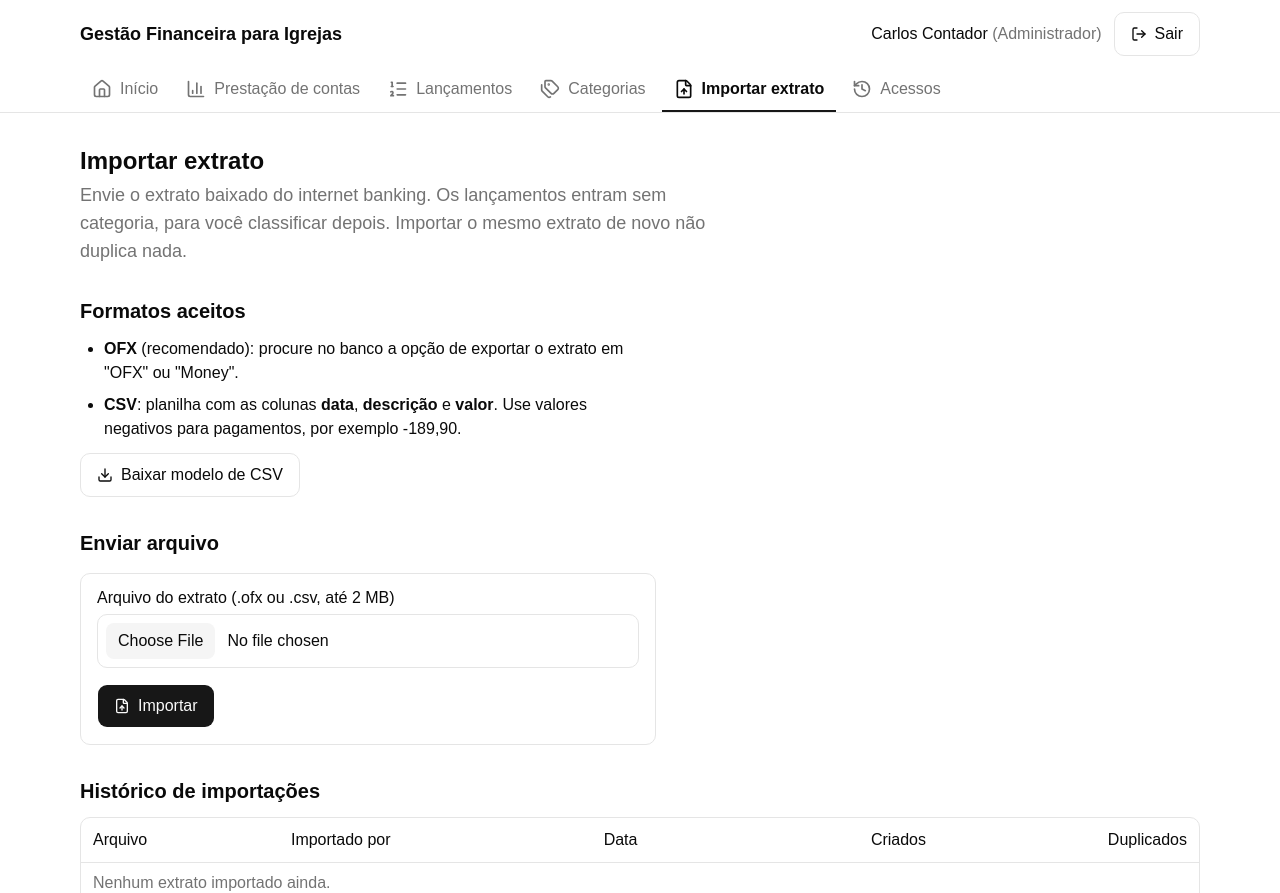
Test: Página de importação de extrato › pede um arquivo quando nada foi selecionado
Step 1. Click the button "Importar" → (156, 706), box [97, 684, 215, 728]
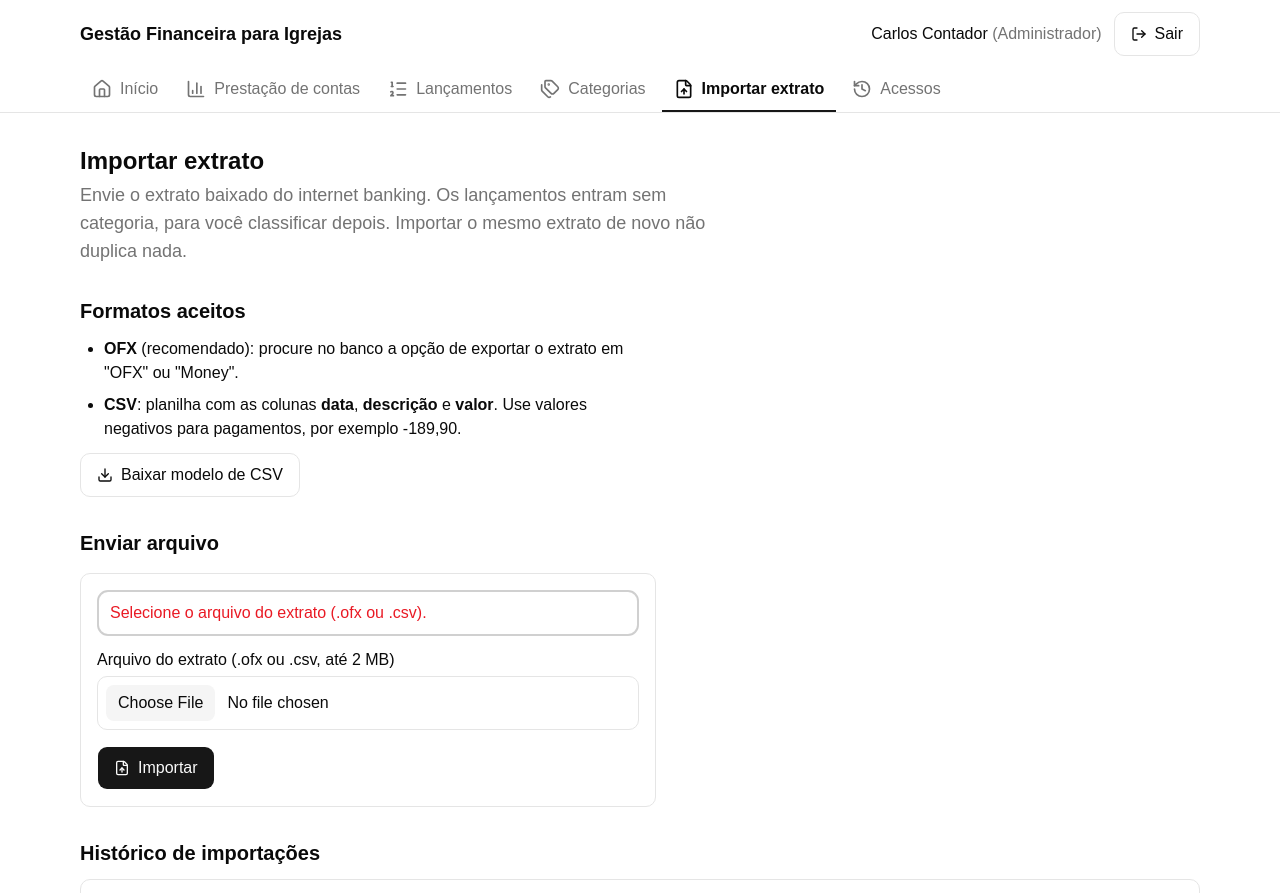
Result: the message reads "Selecione o arquivo do extrato (.ofx ou .csv)." at [110, 604, 427, 621]
